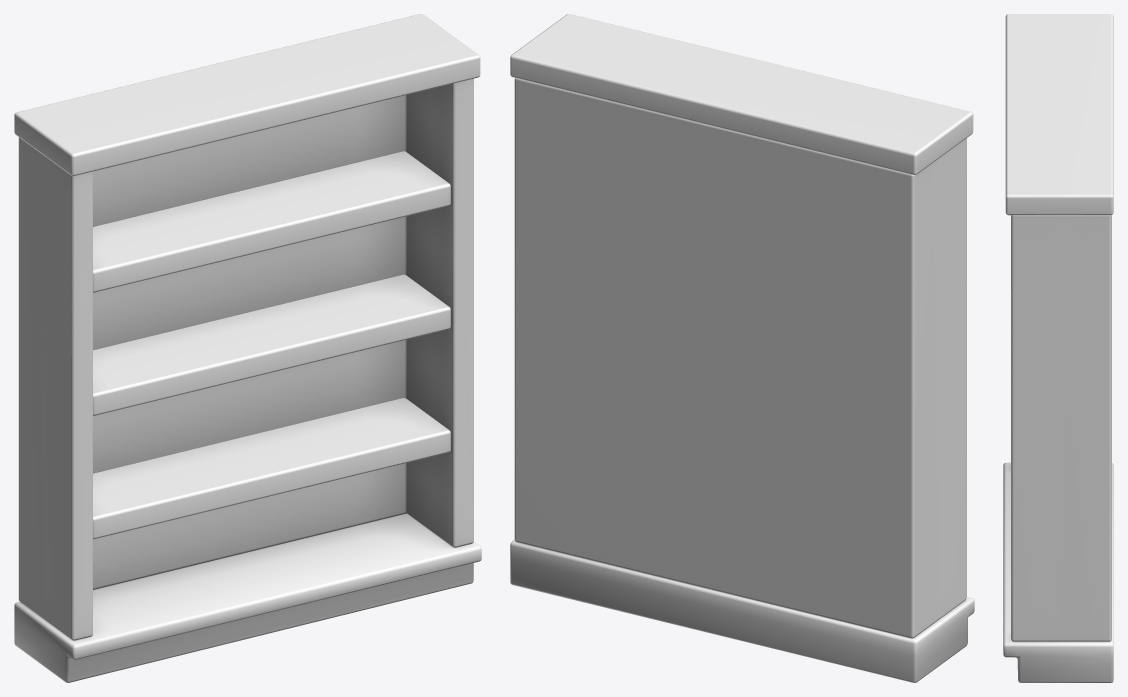
The model's file is Shelf.fbx.
3 renders of one model, left to right at view 1: azimuth 30°, elevation 25°; view 2: azimuth 150°, elevation 25°; view 3: azimuth 270°, elevation 25°, orthographic. The views are drawn at different scales.
Visible parts, largest first — view 1: Shelf; view 2: Shelf; view 3: Shelf.
Part boxes in pixels (x1,y1,x2,y2): Shelf: (14,14,481,682); Shelf: (510,14,974,682); Shelf: (1003,14,1113,682).
Size of the model in its own units: 122 by 152 by 31.13.
